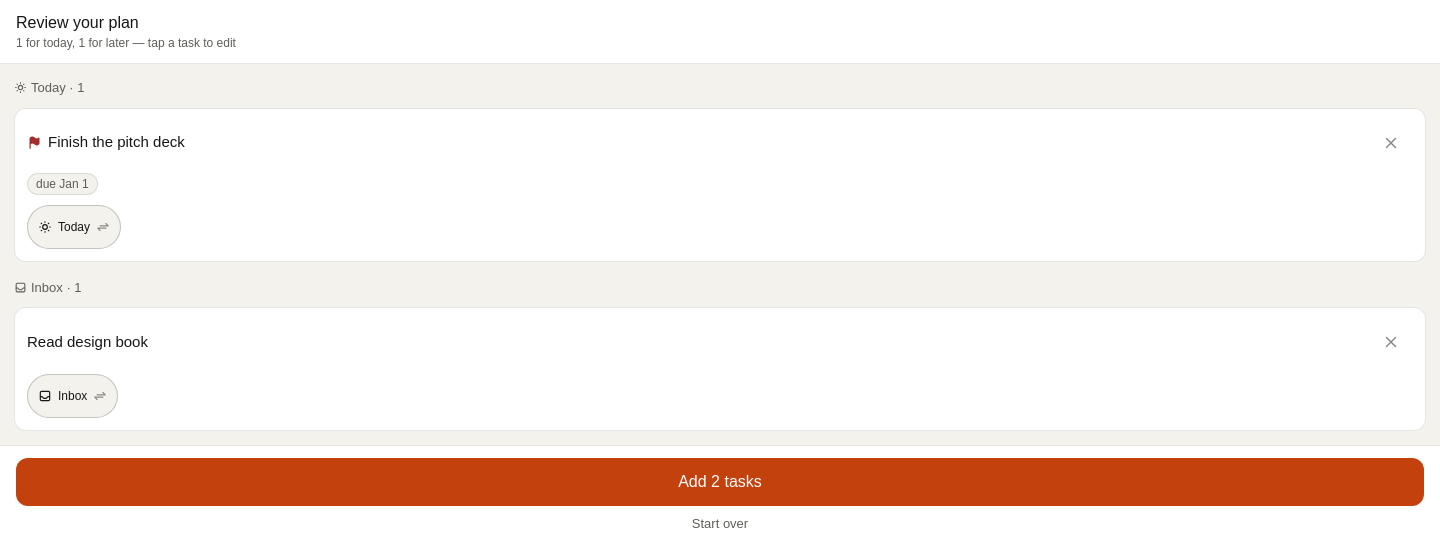
Scenario: ReviewScreen › toggles a task's placement between Today and Inbox
The image size is (1440, 545).
Click the button with aria-label "move to inbox": (74, 226) [27,204,121,248]
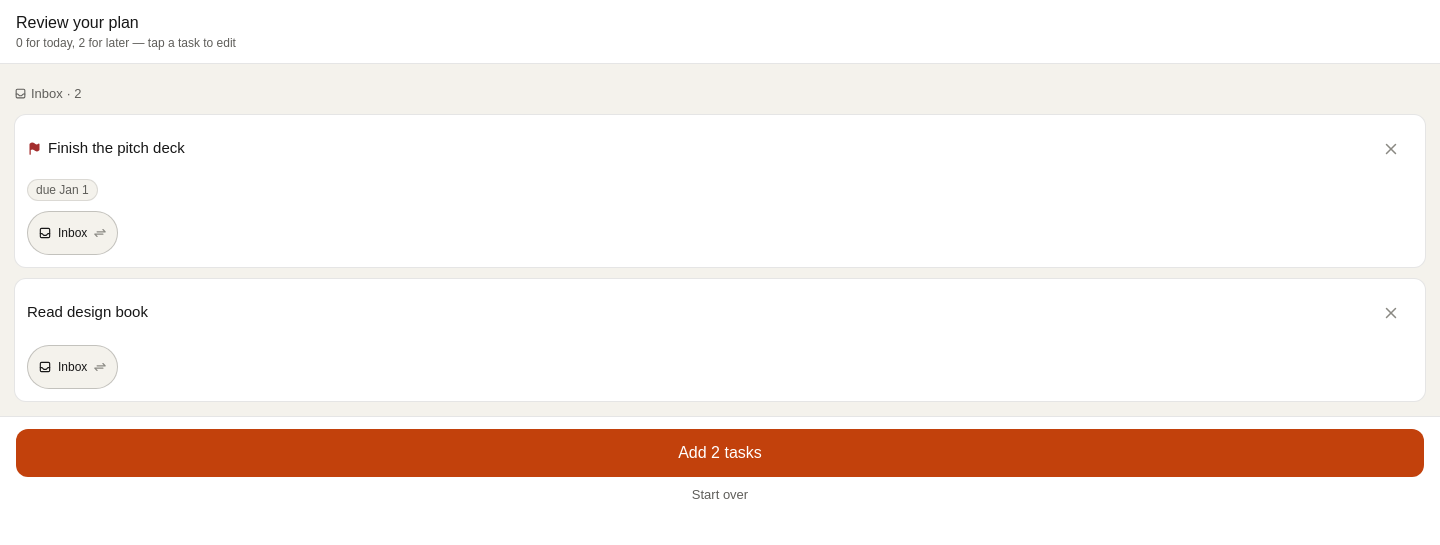
Result: the text "Inbox · 2" is shown at [14,86,82,101]
